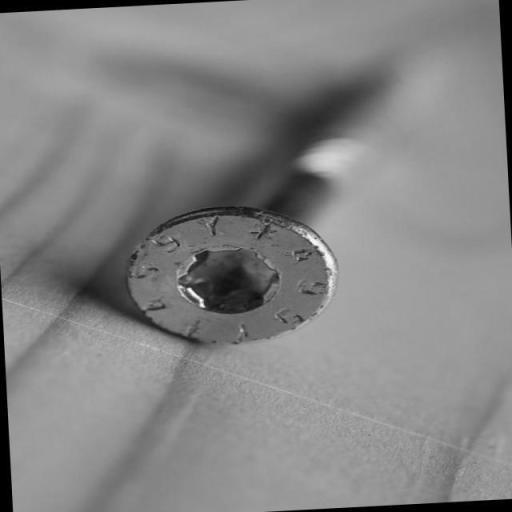Hex-Allen: (124, 181, 333, 369)
